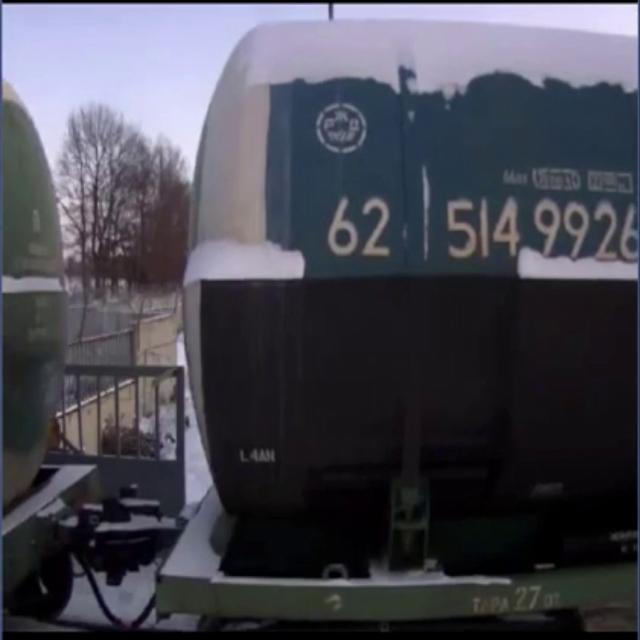tank: (135, 0, 640, 640), (0, 28, 116, 640)
